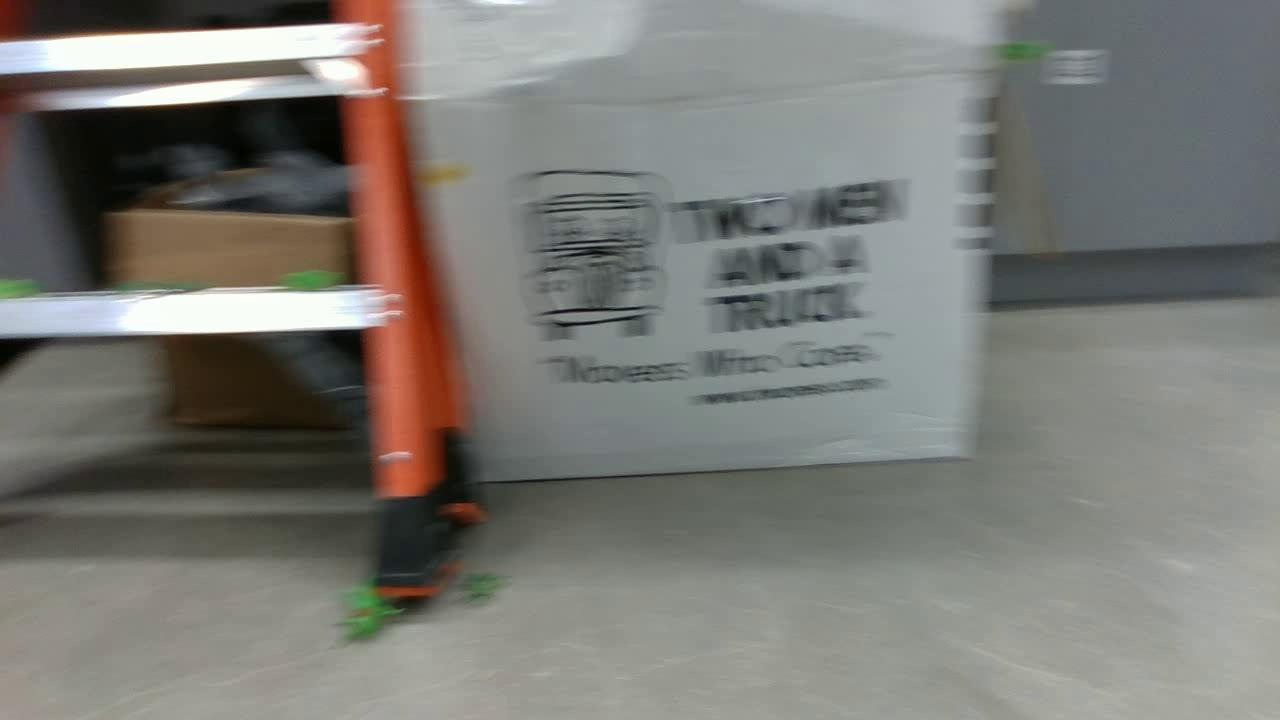grasshopper: (341, 576, 408, 635), (286, 266, 344, 292)
